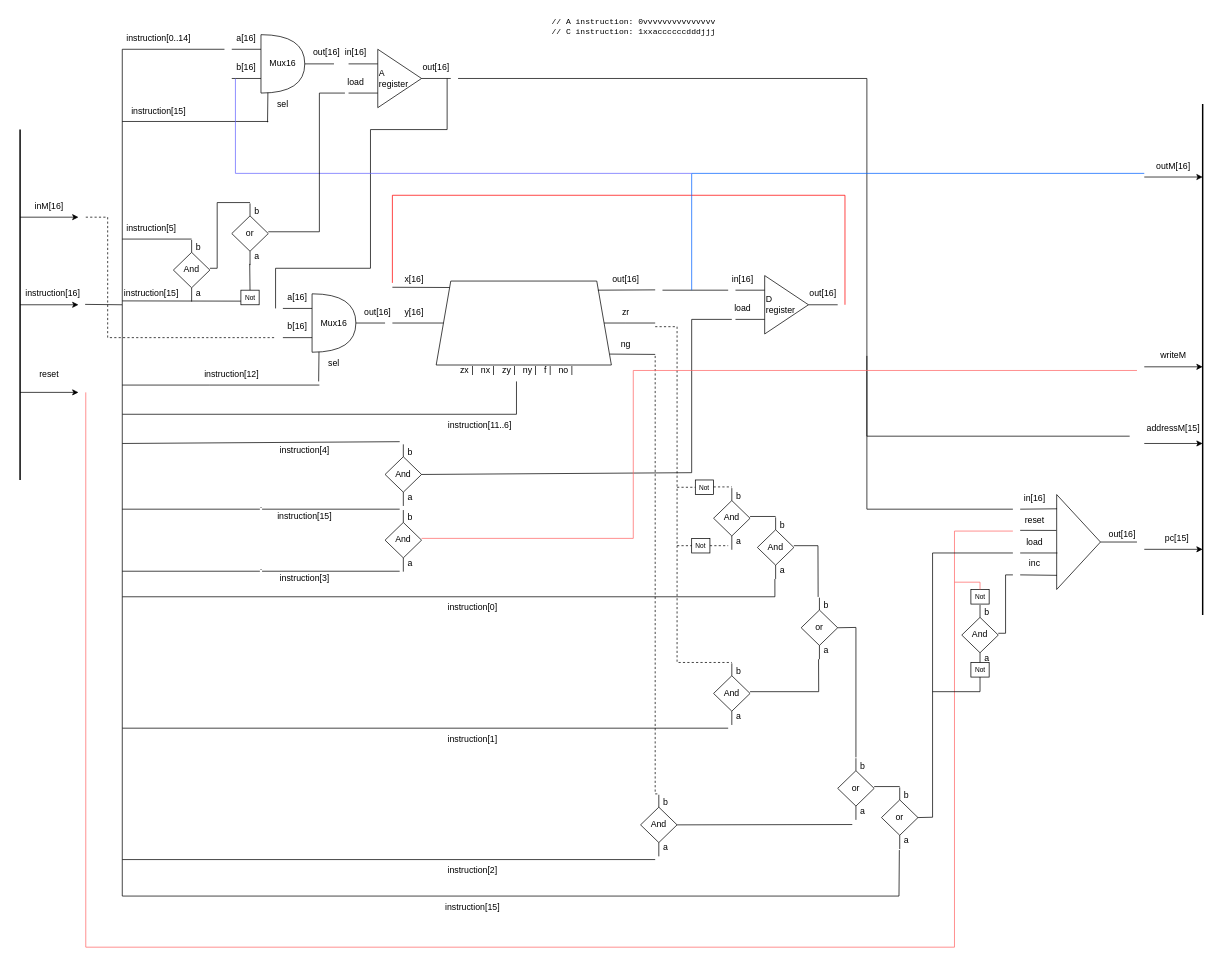
Some shapes in this 1222 by 961 pixel diagram are drawn without their labels. The box of each missing label's shape, as (x1, y1, x2, y2) in pixels:
ALU: (435, 280, 611, 365)
PC: (1056, 494, 1100, 589)
